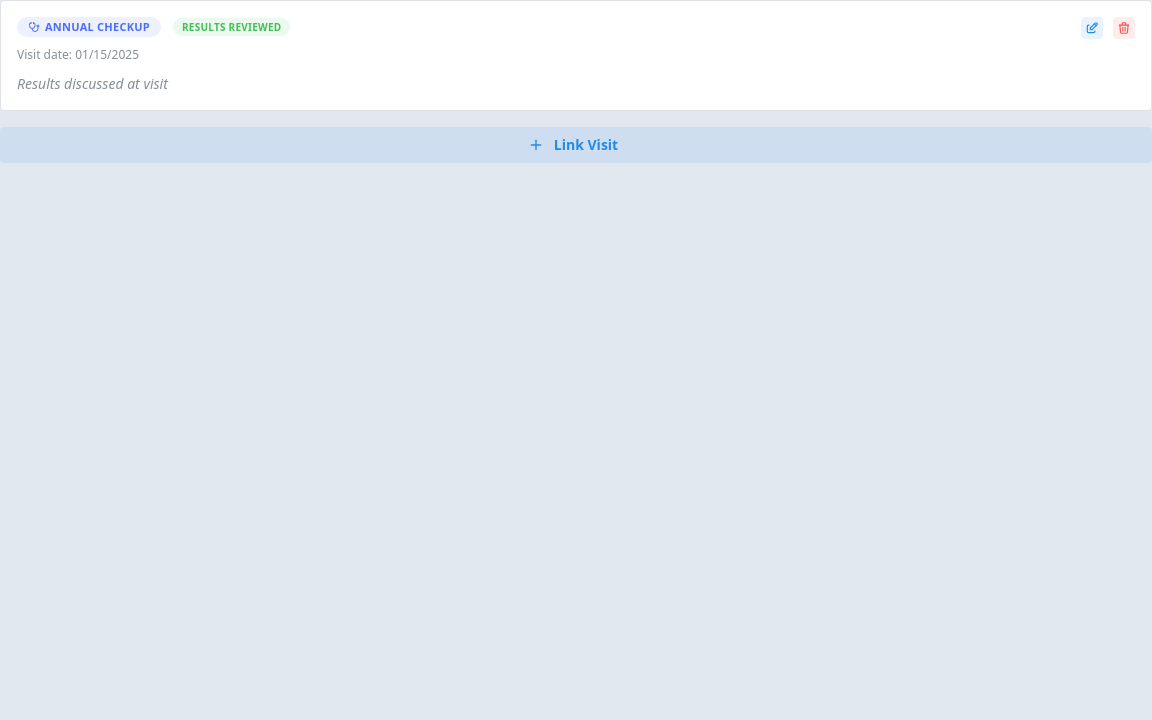
Test: LabResultEncounterRelationships Component › Modal Functionality › should open modal when Add button is clicked
Click the button "Link Visit" at [576, 145], box [0,127,1151,163]
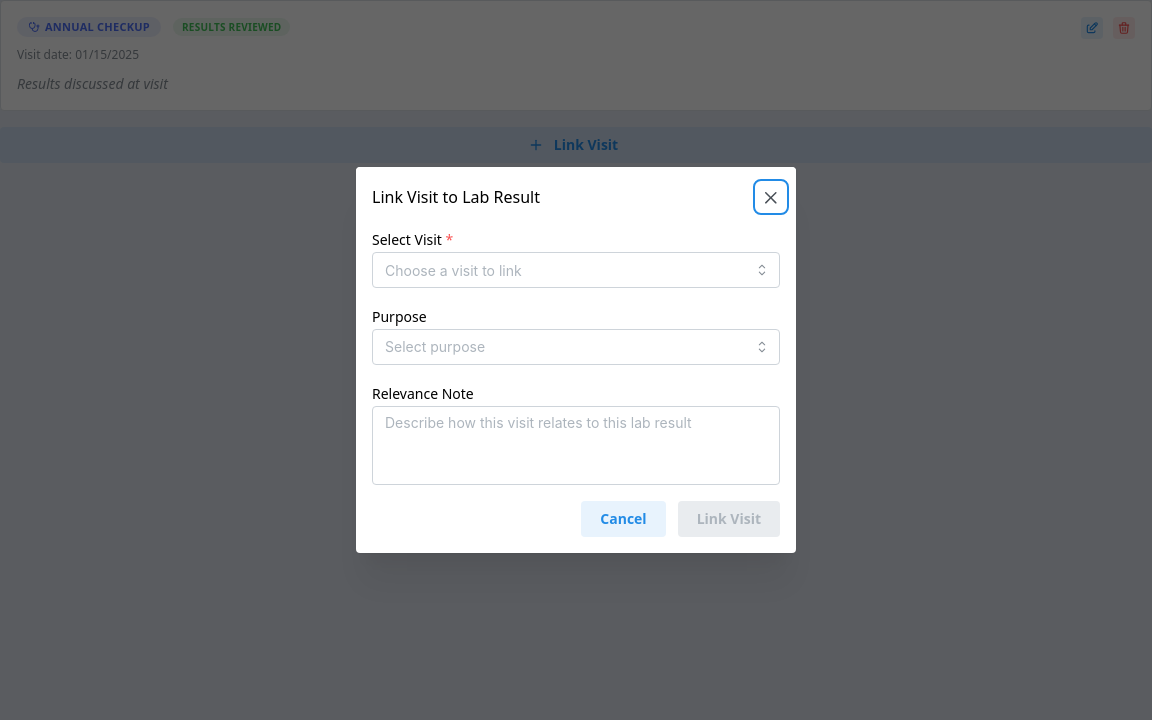
Expected: the heading "Link Visit to Lab Result" is shown, [372,189,540,205]
